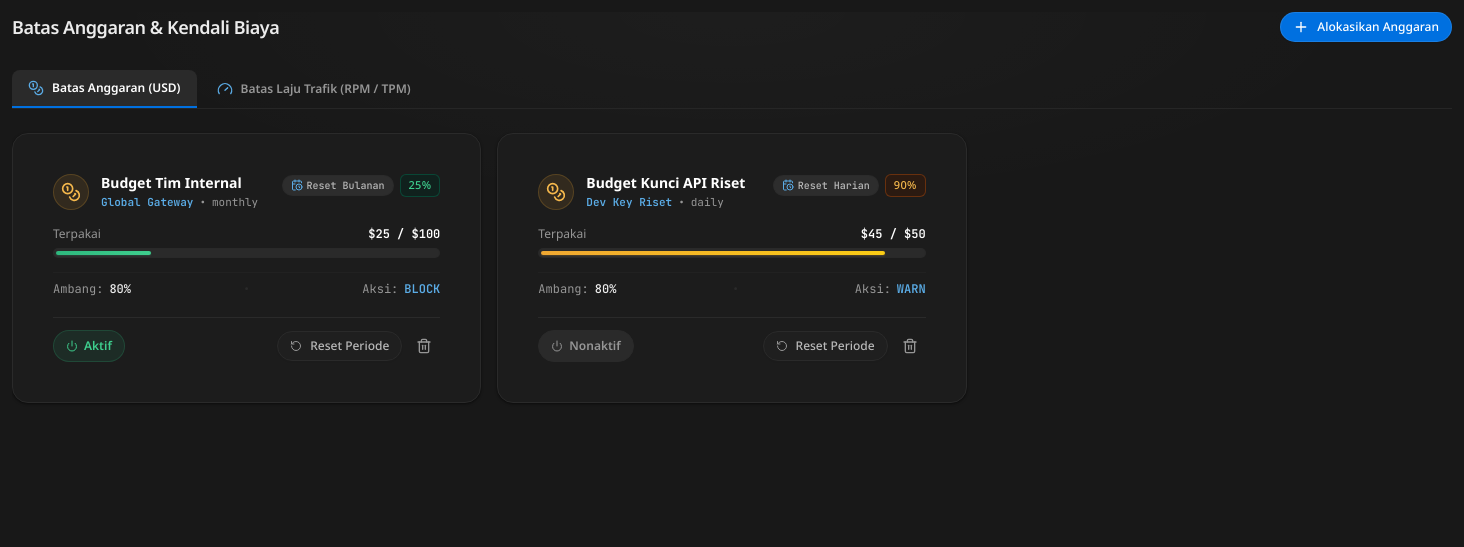
Test: Budgets Page — Modular Architecture & Unit Tests › beralih ke tab Rate Limits dan memverifikasi daftar aturan trafik
The image size is (1464, 547).
Check: the heading "Budget Tim Internal" is shown, box [101,174,258,192]
// Klik tab switcher Rate Limits
Click the tab "Batas Laju Trafik (RPM / TPM)" at (314, 89), box [200,70,427,108]
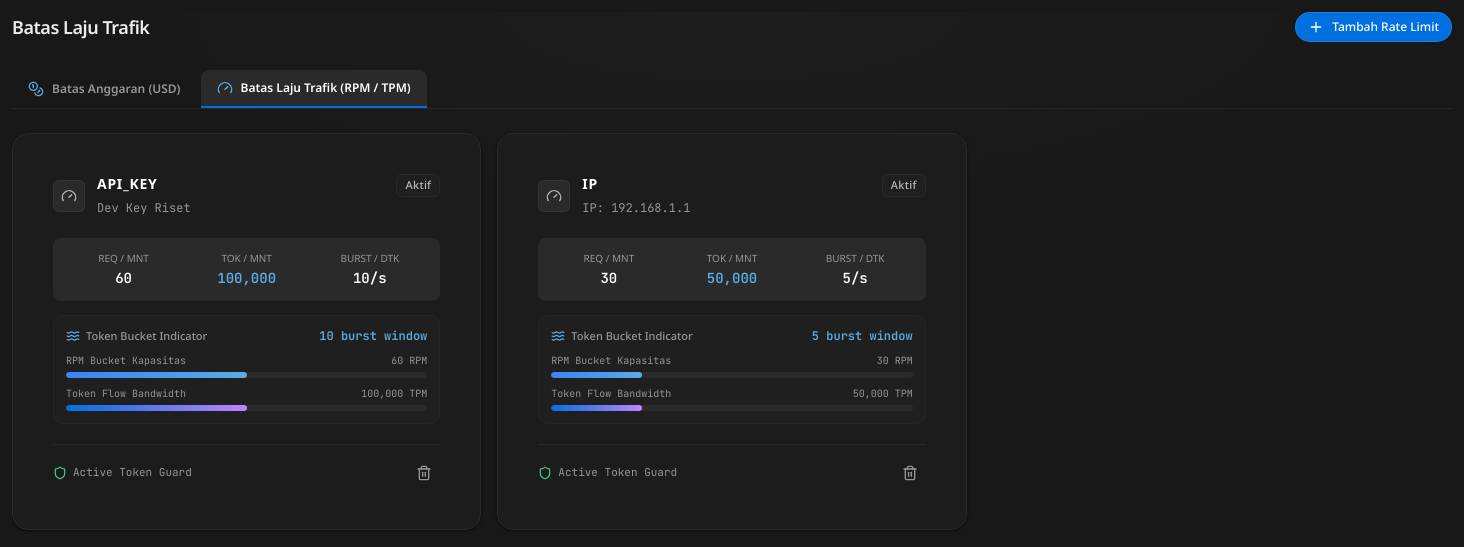
Check: the text "IP: 192.168.1.1" is shown, box [582,200,690,216]
Check: the text "60" is shown, box [115,269,132,287]
Check: the text "100,000" is shown, box [217,269,276,287]
